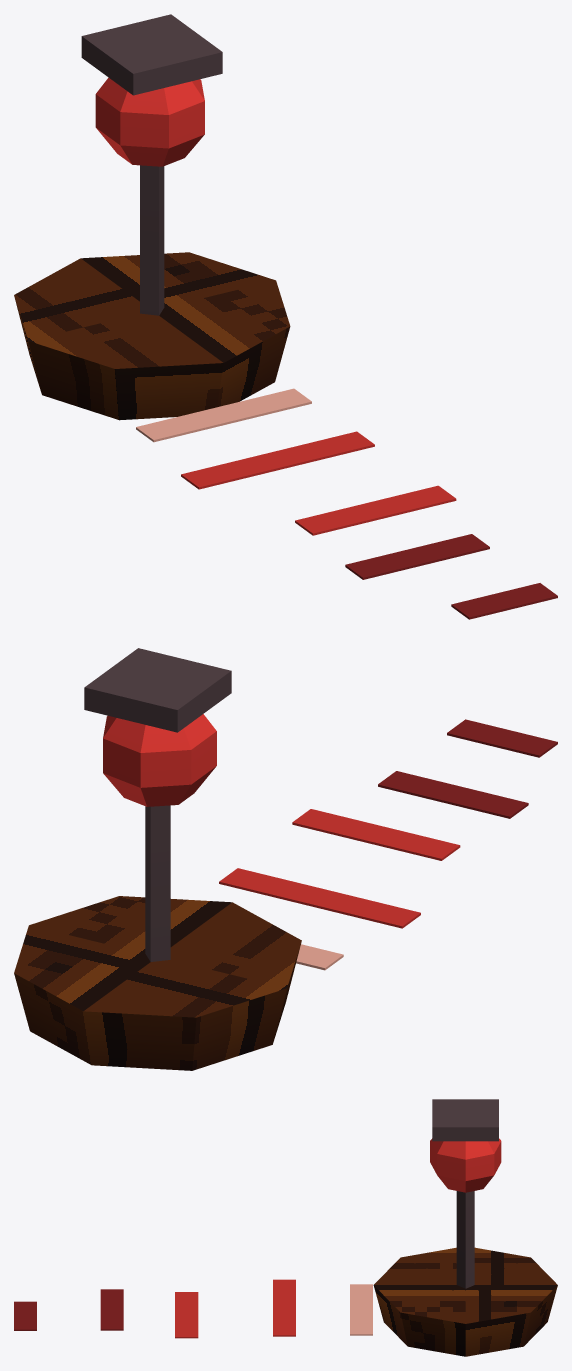
The model's file is float_lantern_red.glb.
3 renders of one model, top to bottom at view 1: azimuth 30°, elevation 25°; view 2: azimuth 150°, elevation 25°; view 3: azimuth 270°, elevation 25°, orthographic. The views are drawn at different scales.
Visible parts, largest first — view 1: float_lantern_red; view 2: float_lantern_red; view 3: float_lantern_red.
Boxes of the visible parts, x1,y1,x2,y2 form: float_lantern_red: (14,14,557,619); float_lantern_red: (14,648,557,1070); float_lantern_red: (14,1099,557,1356).
Bounding box in the file's own units: 0.72 × 0.9 × 2.12.
3 materials, 1 textured.
